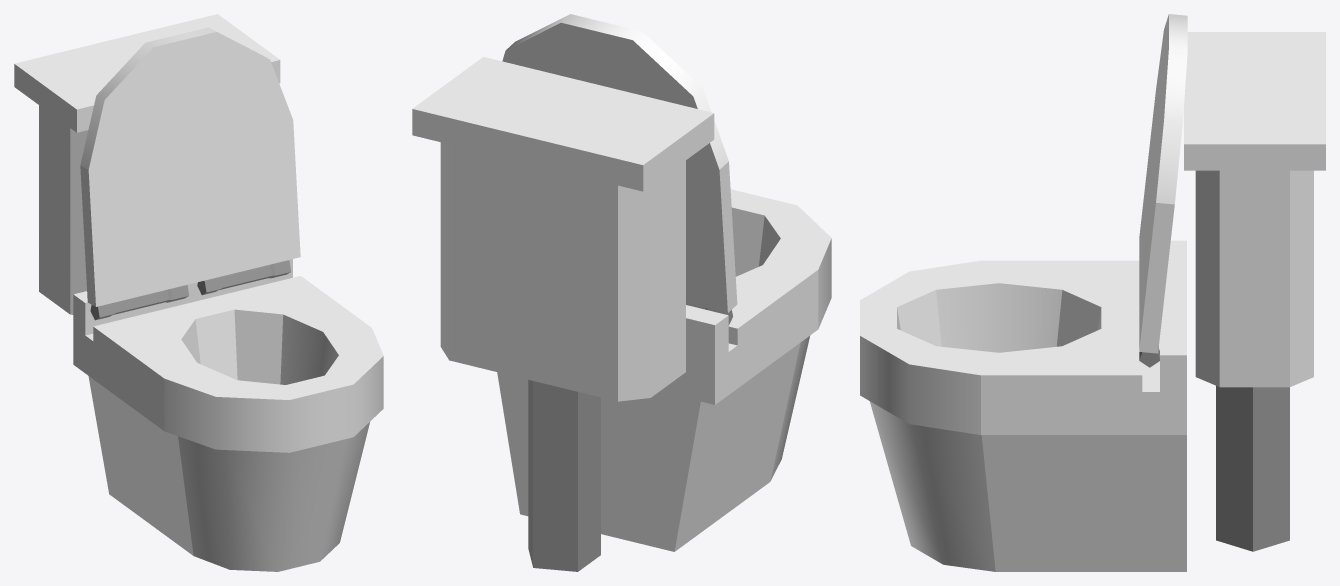
The model's file is Toilet.fbx.
3 renders of one model, left to right at view 1: azimuth 30°, elevation 25°; view 2: azimuth 150°, elevation 25°; view 3: azimuth 270°, elevation 25°, orthographic. The views are drawn at different scales.
Parts seen in each view (by area): view 1: Toilet2; view 2: Toilet2; view 3: Toilet2.
Boxes of the visible parts, x1,y1,x2,y2 form: Toilet2: (14, 14, 383, 571); Toilet2: (412, 14, 831, 571); Toilet2: (860, 14, 1325, 571).
Bounding box in the file's own units: 39.2 × 80.07 × 67.23.
